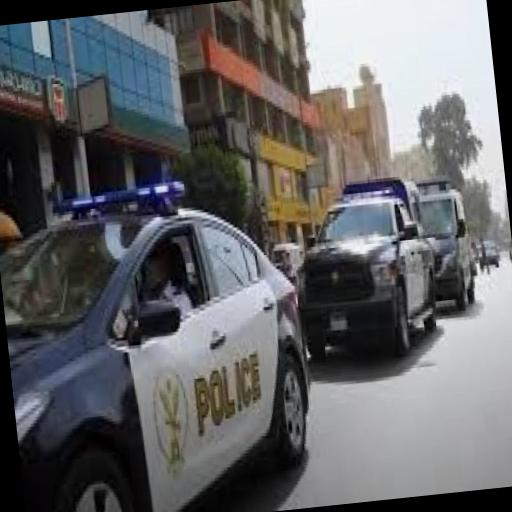Ambulance: (0, 157, 317, 506), (280, 169, 444, 375), (420, 170, 480, 318)
